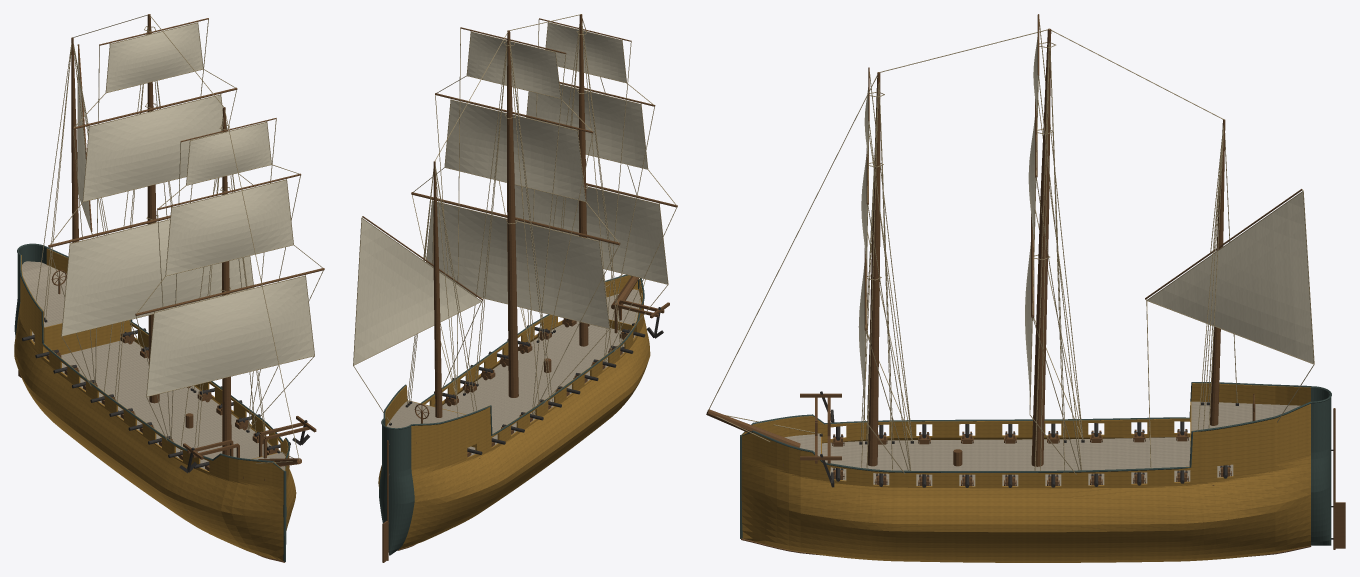
The model's file is ship.glb.
3 views of the same model, side by side, from view 1: azimuth 30°, elevation 25°; view 2: azimuth 150°, elevation 25°; view 3: azimuth 270°, elevation 25° (orthographic). The views are drawn at different scales.
Visible parts, largest first — view 1: hull_shell_starboard, fore_square_00, main_square_00, main_square_01, main_deck, fore_square_01, main_square_02, fore_square_02, hull_shell_port, castle_deck_0, castle_bulkhead_0_1, mizzen (+9 smaller); view 2: hull_shell_starboard, main_square_00, mizzen_lateen_00, main_square_01, fore_square_00, main_deck, fore_square_01, main_square_02, stern_closure, main, fore_square_02, hull_shell_port (+16 smaller); view 3: hull_shell_port, mizzen_lateen_00, main_deck, hull_shell_starboard, main, stern_closure, fore, castle_deck_0, gunwale_port, mizzen, gunwale_starboard.
Boxes of the visible parts, x1=… form: hull_shell_starboard: x1=14, y1=255, x2=283, y2=560; fore_square_00: x1=147, y1=276, x2=314, y2=396; main_square_00: x1=62, y1=220, x2=253, y2=335; main_square_01: x1=83, y1=95, x2=222, y2=201; main_deck: x1=32, y1=331, x2=270, y2=470; fore_square_01: x1=166, y1=180, x2=293, y2=275; main_square_02: x1=106, y1=23, x2=202, y2=92; fore_square_02: x1=186, y1=122, x2=271, y2=184; hull_shell_port: x1=46, y1=248, x2=296, y2=530; castle_deck_0: x1=22, y1=261, x2=66, y2=327; castle_bulkhead_0_1: x1=44, y1=320, x2=129, y2=357; mizzen: x1=71, y1=37, x2=78, y2=242; hull_shell_starboard: x1=399, y1=278, x2=650, y2=549; main_square_00: x1=426, y1=201, x2=609, y2=328; mizzen_lateen_00: x1=353, y1=219, x2=480, y2=364; main_square_01: x1=445, y1=100, x2=585, y2=201; fore_square_00: x1=514, y1=185, x2=667, y2=283; main_deck: x1=389, y1=321, x2=635, y2=474; fore_square_01: x1=527, y1=85, x2=647, y2=168; main_square_02: x1=467, y1=32, x2=560, y2=98; stern_closure: x1=379, y1=419, x2=414, y2=555; main: x1=507, y1=30, x2=518, y2=397; fore_square_02: x1=546, y1=23, x2=626, y2=82; hull_shell_port: x1=378, y1=275, x2=637, y2=488; hull_shell_port: x1=741, y1=403, x2=1310, y2=562; mizzen_lateen_00: x1=1148, y1=192, x2=1313, y2=363; main_deck: x1=822, y1=437, x2=1233, y2=486; hull_shell_starboard: x1=741, y1=383, x2=1310, y2=443; main: x1=1031, y1=28, x2=1051, y2=466; stern_closure: x1=1311, y1=387, x2=1331, y2=545; fore: x1=867, y1=72, x2=880, y2=466; castle_deck_0: x1=1191, y1=401, x2=1300, y2=430; gunwale_port: x1=741, y1=401, x2=1311, y2=472; mizzen: x1=1210, y1=119, x2=1225, y2=425; gunwale_starboard: x1=741, y1=382, x2=1310, y2=434.
Size of the model in its own units: 17.74 by 36.74 by 39.96.
Materials: 7 (7 with a texture image).
